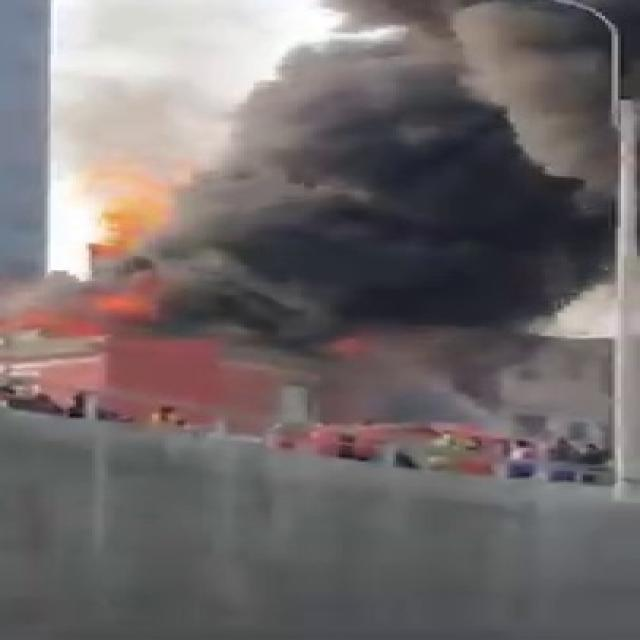Fire: (48, 112, 209, 350)
Smoke: (145, 0, 640, 361)
